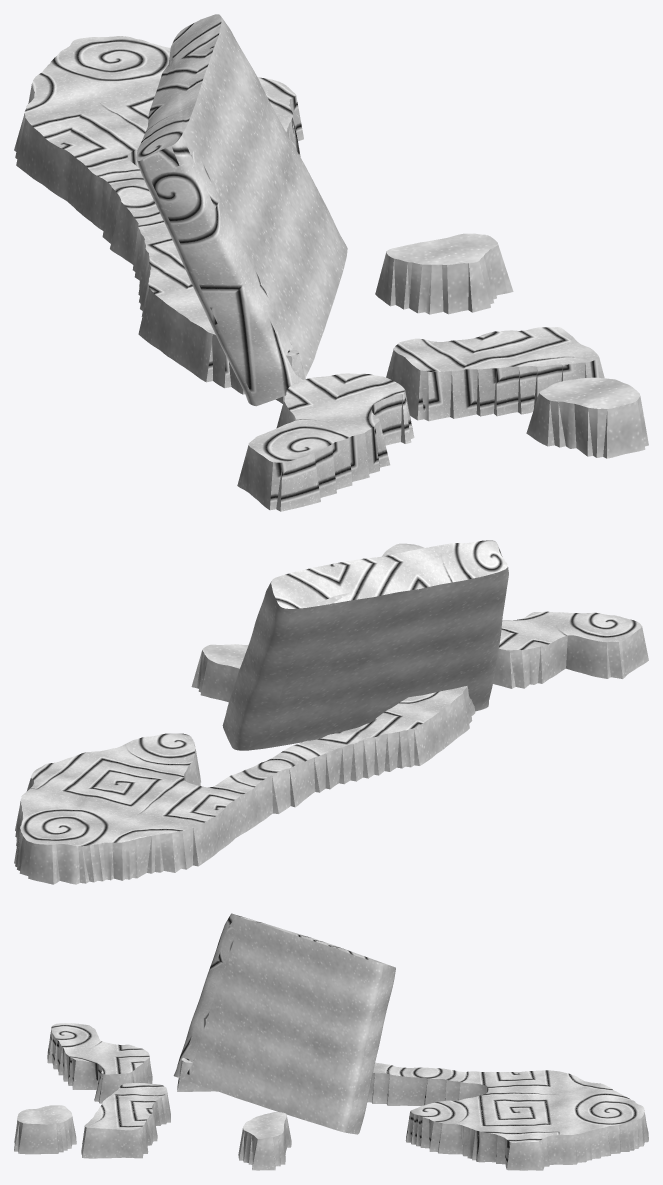
File: CREHenge03.glb
3 renders of one model, top to bottom at view 1: azimuth 30°, elevation 25°; view 2: azimuth 150°, elevation 25°; view 3: azimuth 270°, elevation 25°, orthographic. The views are drawn at different scales.
Visible parts, largest first — view 1: CREHenge03_tops; view 2: CREHenge03_tops; view 3: CREHenge03_tops.
Part boxes in pixels (x1,y1,x2,y2): CREHenge03_tops: [14, 14, 648, 511]; CREHenge03_tops: [14, 540, 648, 884]; CREHenge03_tops: [14, 913, 648, 1170].
Size of the model in its own units: 3.77 by 2.22 by 8.32.
2 materials, 2 textured.
